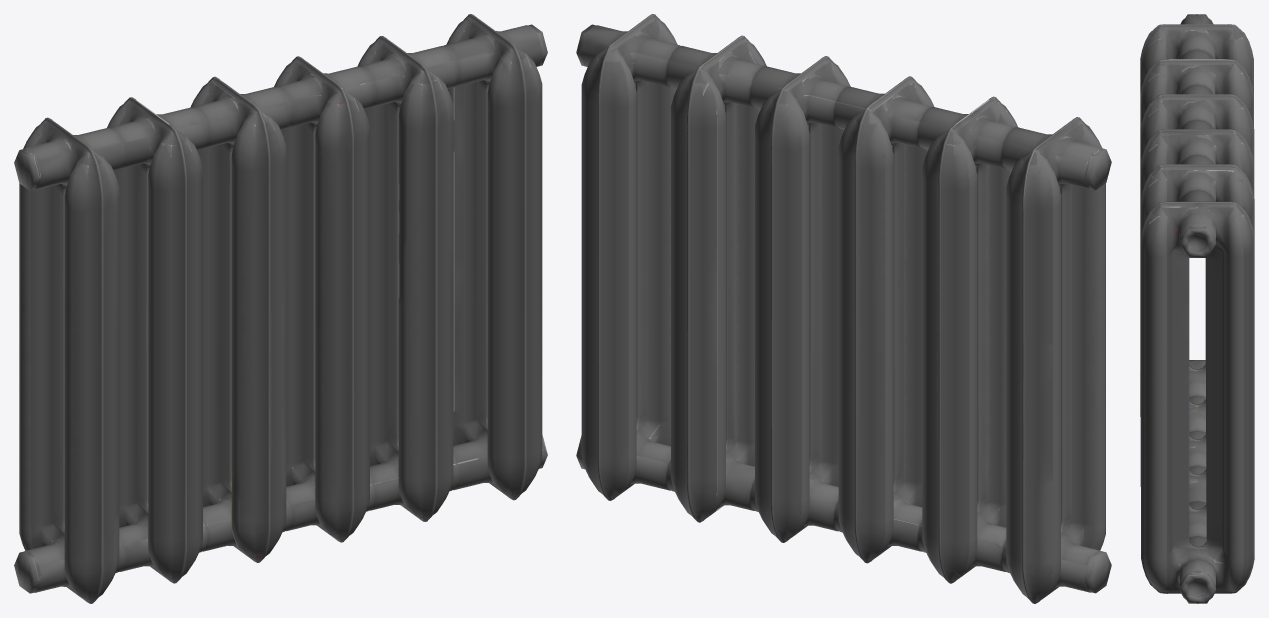
The model's file is heater.glb.
3 renders of one model, left to right at view 1: azimuth 30°, elevation 25°; view 2: azimuth 150°, elevation 25°; view 3: azimuth 270°, elevation 25°, orthographic. The views are drawn at different scales.
Parts seen in each view (by area): view 1: Plane; view 2: Plane; view 3: Plane.
Boxes of the visible parts, x1=… form: Plane: x1=14, y1=14, x2=547, y2=603; Plane: x1=576, y1=14, x2=1111, y2=603; Plane: x1=1140, y1=14, x2=1254, y2=603.
Bounding box in the file's own units: 27.98 × 23.73 × 6.29.
1 material, 1 textured.
